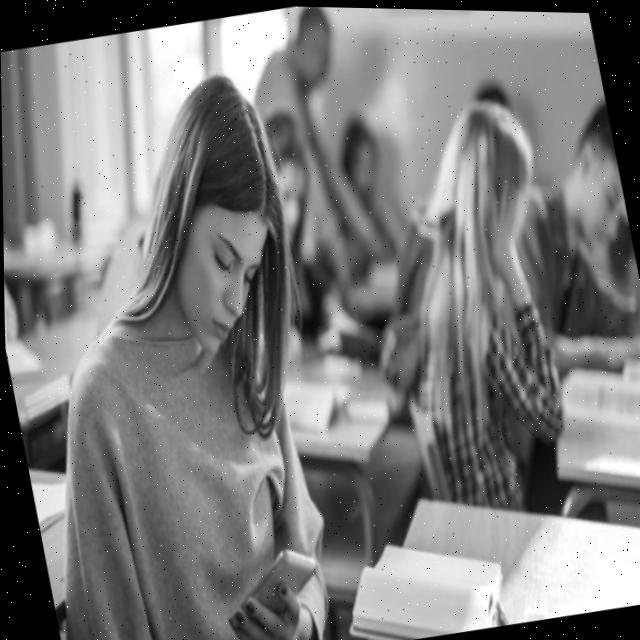phone: (212, 532, 329, 640)
